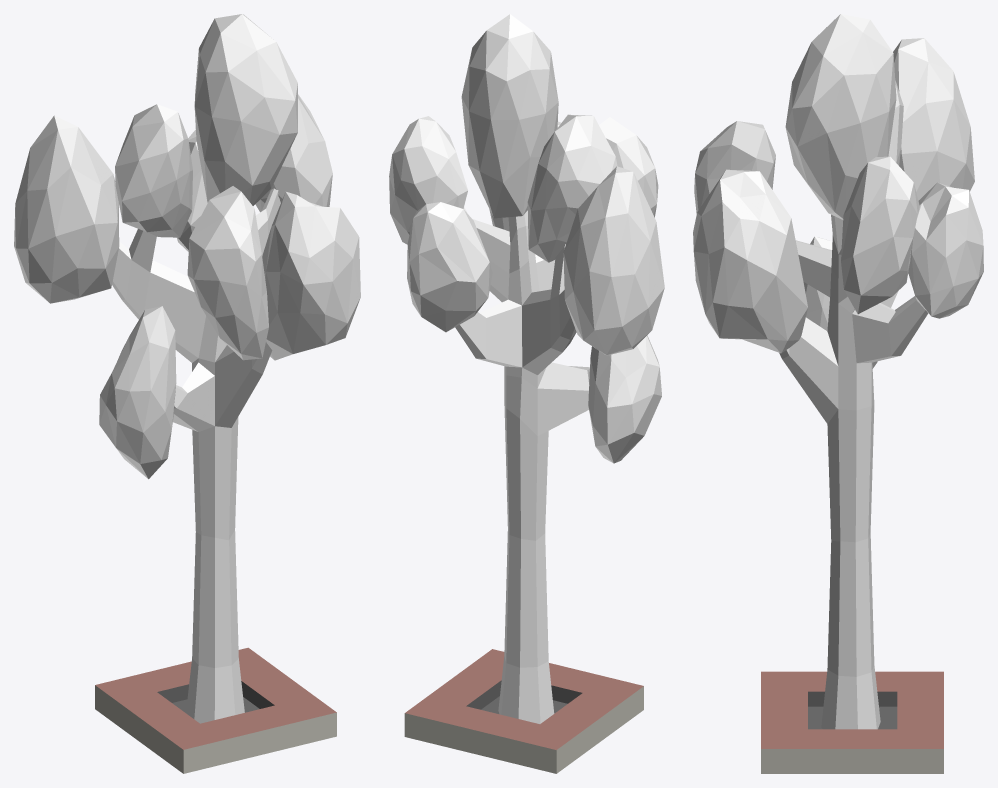
File: SmokingTree.glb
3 renders of one model, left to right at view 1: azimuth 30°, elevation 25°; view 2: azimuth 150°, elevation 25°; view 3: azimuth 270°, elevation 25°, orthographic. The views are drawn at different scales.
Parts seen in each view (by area): view 1: Inside_Tree.001; view 2: Inside_Tree.001; view 3: Inside_Tree.001.
Boxes of the visible parts, <box> form: Inside_Tree.001: <box>14,14,360,773</box>; Inside_Tree.001: <box>389,14,664,773</box>; Inside_Tree.001: <box>693,14,983,773</box>.
Size of the model in its own units: 3.68 by 8.82 by 3.18.
